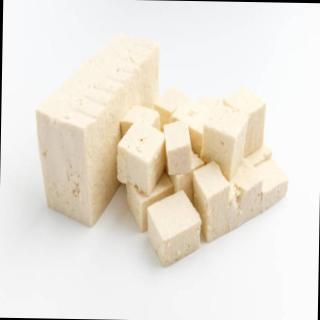Tahu: (26, 22, 303, 280)
